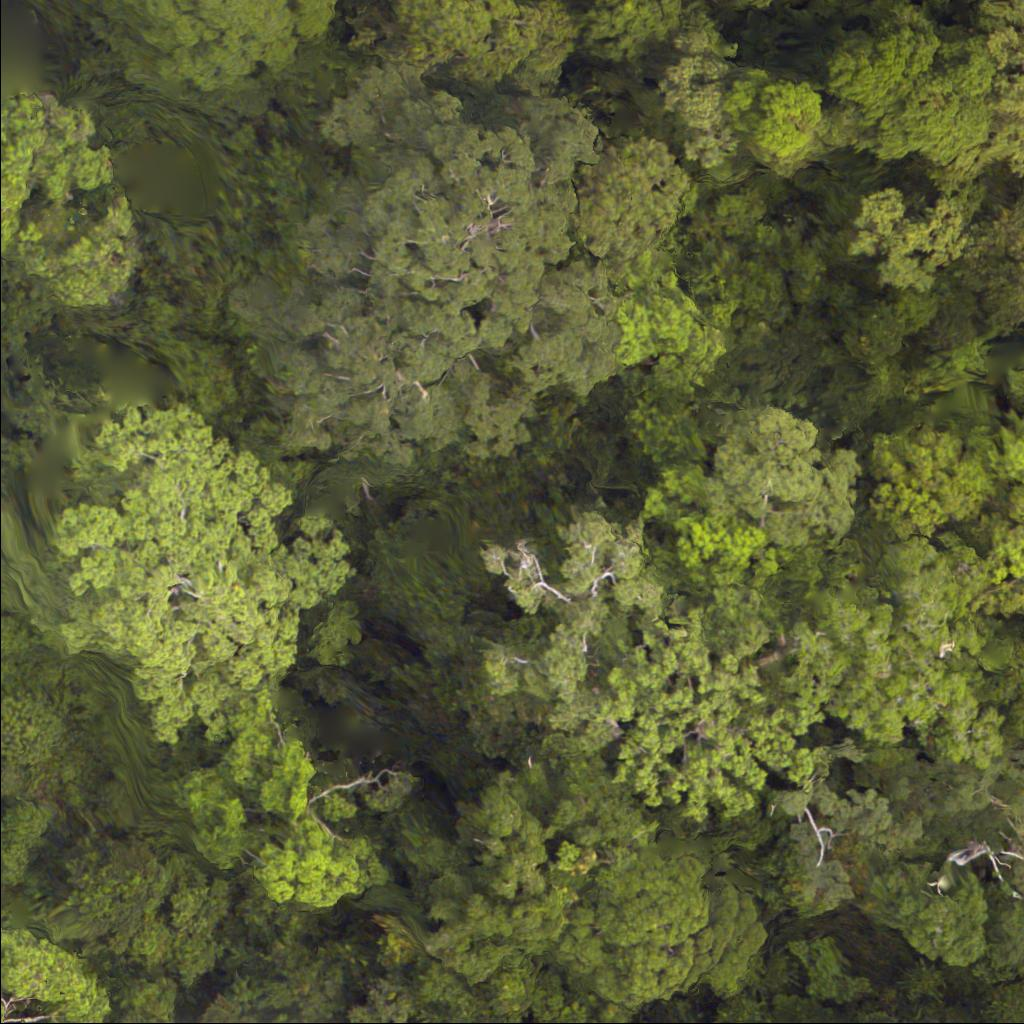crown: (245, 77, 620, 459), (31, 427, 384, 750), (571, 611, 827, 814), (178, 723, 422, 905), (0, 109, 142, 305), (795, 578, 959, 744), (708, 410, 862, 542), (352, 0, 570, 92), (568, 146, 690, 262), (845, 183, 961, 304), (878, 546, 998, 661), (867, 431, 998, 529), (576, 0, 734, 77), (0, 925, 115, 1023), (722, 76, 824, 160), (977, 34, 1023, 174), (975, 506, 1023, 600), (999, 433, 1023, 490), (1010, 365, 1023, 432), (1018, 672, 1023, 729)
